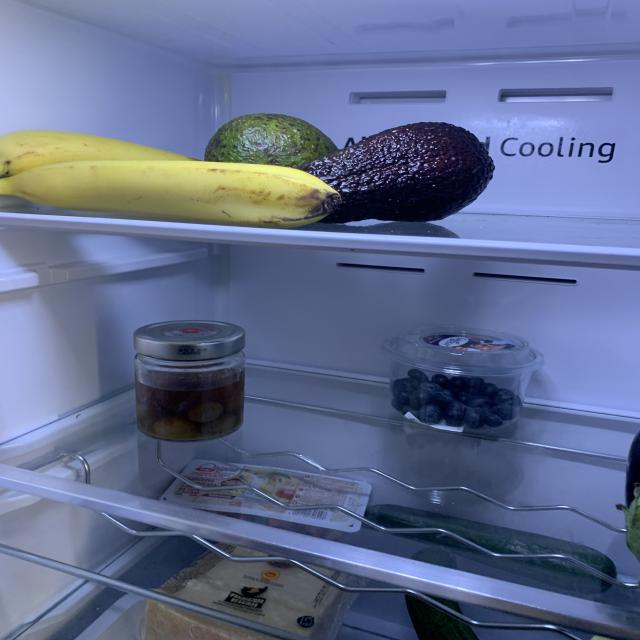aubergine: (408, 544, 479, 640), (621, 430, 640, 563)
avocado: (295, 121, 497, 222), (205, 112, 339, 166)
bacon: (272, 518, 354, 544)
banana: (3, 128, 340, 224)
blueberries: (394, 369, 519, 428)
courgettes: (367, 507, 621, 595)
olives: (135, 370, 244, 440)
parmesan_cheese: (144, 546, 364, 640)
